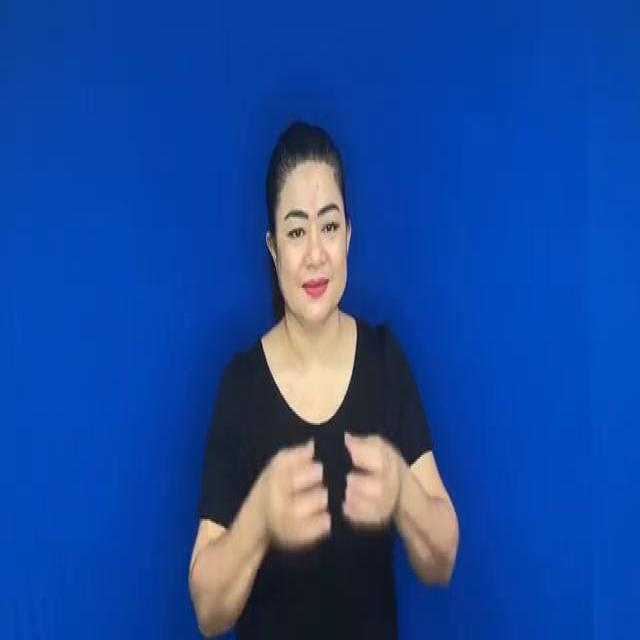egg: (254, 406, 409, 562)
